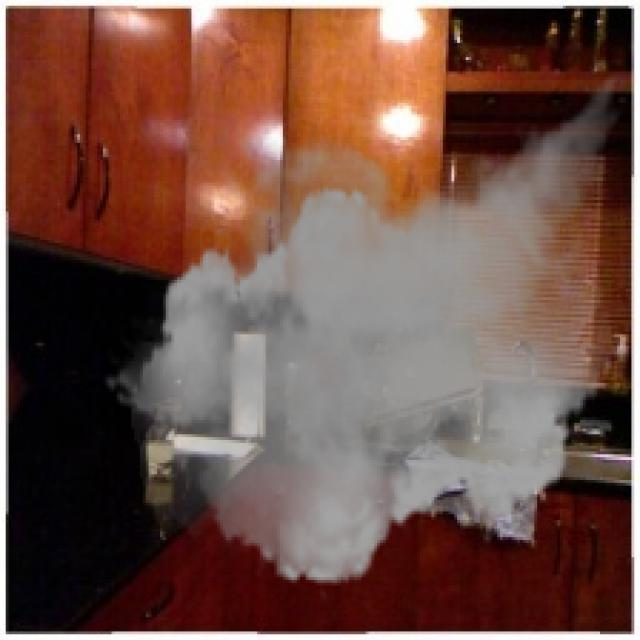smoke: (103, 46, 631, 600)
